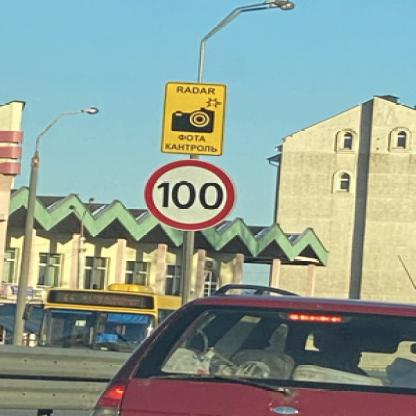Speed Limit 100: (145, 158, 237, 230)
